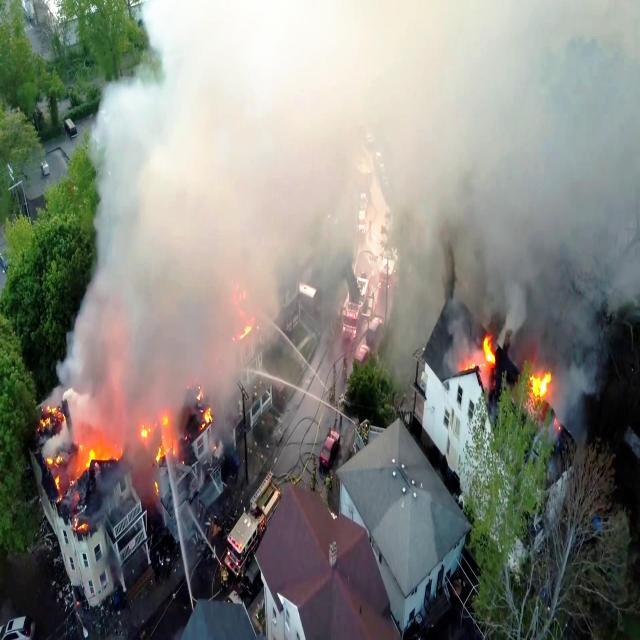Fire: (77, 436, 125, 474), (148, 417, 184, 467), (528, 366, 552, 408), (482, 328, 502, 371)
Smoke: (126, 2, 268, 386)
